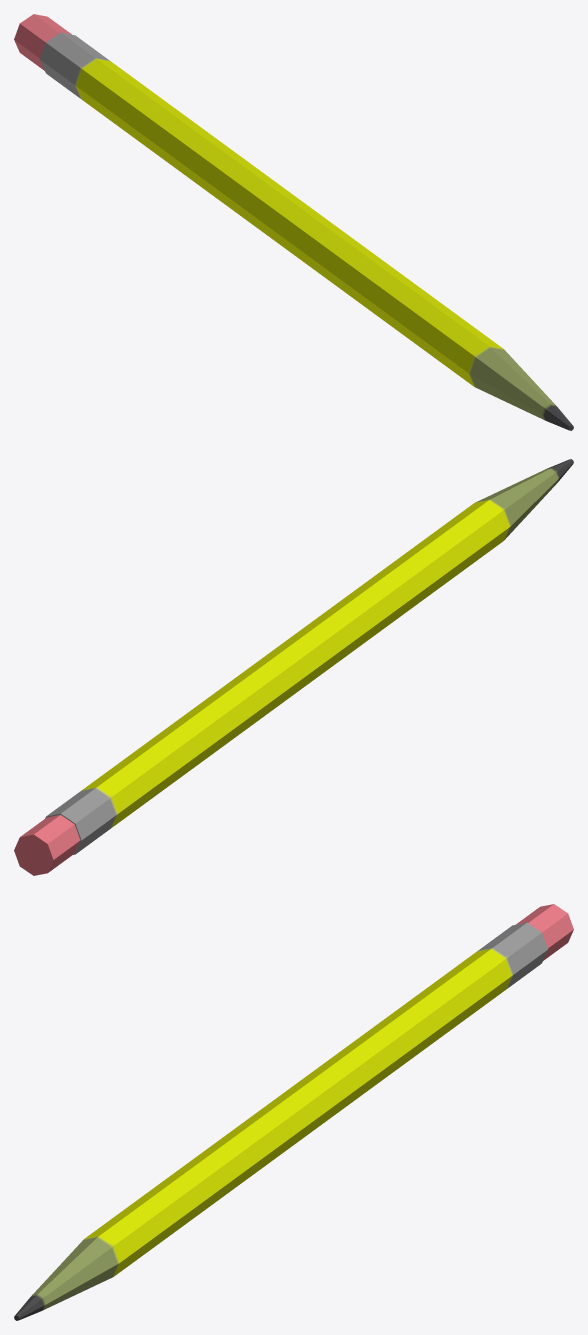
The model's file is Pencil.fbx.
3 renders of one model, top to bottom at view 1: azimuth 30°, elevation 25°; view 2: azimuth 150°, elevation 25°; view 3: azimuth 330°, elevation 25°, orthographic.
Visible parts, largest first — view 1: PencilMerged; view 2: PencilMerged; view 3: PencilMerged.
Boxes of the visible parts, x1,y1,x2,y2 form: PencilMerged: [14, 14, 573, 430]; PencilMerged: [14, 459, 573, 875]; PencilMerged: [14, 904, 573, 1320].
Size of what is drawn, in the model's own units: 0.7254 by 0.7254 by 16.21.
